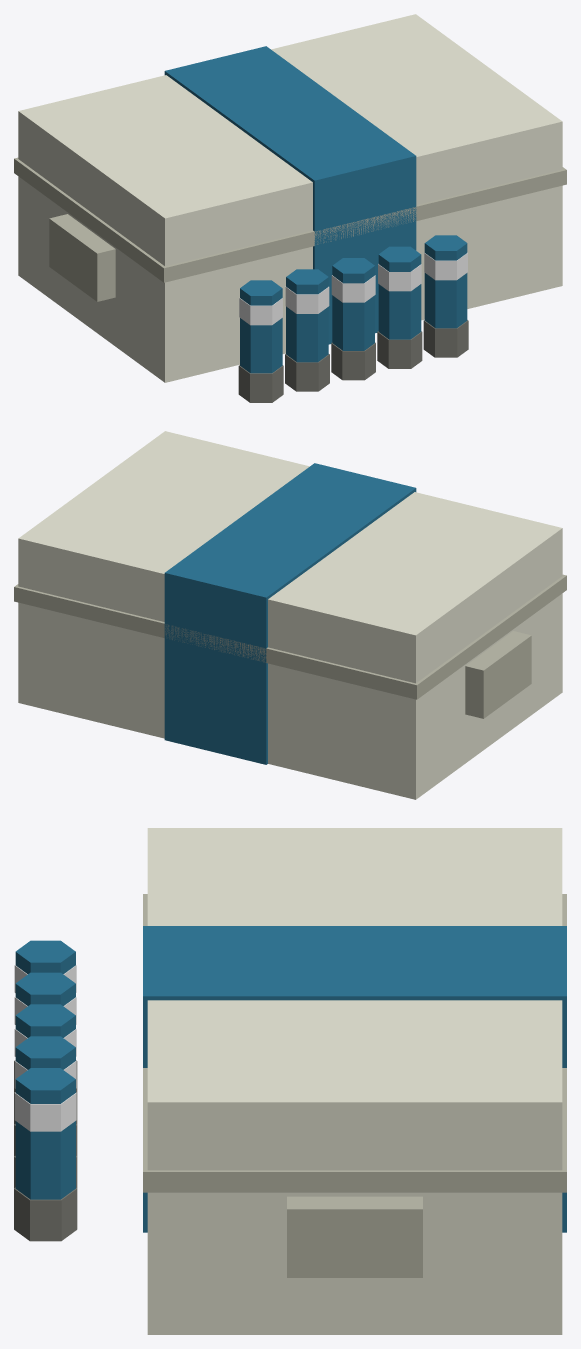
File: ce_ammo_chshotgun_ion_c.obj
3 views of the same model, one above another, from view 1: azimuth 30°, elevation 25°; view 2: azimuth 150°, elevation 25°; view 3: azimuth 270°, elevation 25° (orthographic). The views are drawn at different scales.
Visible parts, largest first — view 1: ce_ammo_chshotgun_ion_c_0, ce_ammo_chshotgun_ion_c_1, ce_ammo_chshotgun_ion_c_2, ce_ammo_chshotgun_ion_c_3, ce_ammo_chshotgun_ion_c_15, ce_ammo_chshotgun_ion_c_18, ce_ammo_chshotgun_ion_c_6, ce_ammo_chshotgun_ion_c_9, ce_ammo_chshotgun_ion_c_12, ce_ammo_chshotgun_ion_c_17, ce_ammo_chshotgun_ion_c_5, ce_ammo_chshotgun_ion_c_14 (+7 smaller); view 2: ce_ammo_chshotgun_ion_c_0, ce_ammo_chshotgun_ion_c_1, ce_ammo_chshotgun_ion_c_2, ce_ammo_chshotgun_ion_c_3; view 3: ce_ammo_chshotgun_ion_c_0, ce_ammo_chshotgun_ion_c_1, ce_ammo_chshotgun_ion_c_4, ce_ammo_chshotgun_ion_c_2, ce_ammo_chshotgun_ion_c_18, ce_ammo_chshotgun_ion_c_17, ce_ammo_chshotgun_ion_c_19, ce_ammo_chshotgun_ion_c_6, ce_ammo_chshotgun_ion_c_9, ce_ammo_chshotgun_ion_c_12, ce_ammo_chshotgun_ion_c_15.
Boxes of the visible parts, <box> form: ce_ammo_chshotgun_ion_c_0: <box>18,14,562,382</box>; ce_ammo_chshotgun_ion_c_1: <box>164,46,416,344</box>; ce_ammo_chshotgun_ion_c_2: <box>14,157,566,282</box>; ce_ammo_chshotgun_ion_c_3: <box>49,214,115,301</box>; ce_ammo_chshotgun_ion_c_15: <box>378,246,421,339</box>; ce_ammo_chshotgun_ion_c_18: <box>424,235,467,328</box>; ce_ammo_chshotgun_ion_c_6: <box>240,280,282,373</box>; ce_ammo_chshotgun_ion_c_9: <box>286,269,328,362</box>; ce_ammo_chshotgun_ion_c_12: <box>332,258,374,350</box>; ce_ammo_chshotgun_ion_c_17: <box>423,320,468,357</box>; ce_ammo_chshotgun_ion_c_5: <box>238,365,283,402</box>; ce_ammo_chshotgun_ion_c_14: <box>377,331,422,368</box>; ce_ammo_chshotgun_ion_c_0: <box>18,431,562,799</box>; ce_ammo_chshotgun_ion_c_1: <box>164,463,416,764</box>; ce_ammo_chshotgun_ion_c_2: <box>14,574,566,699</box>; ce_ammo_chshotgun_ion_c_3: <box>465,631,531,718</box>; ce_ammo_chshotgun_ion_c_0: <box>147,828,562,1334</box>; ce_ammo_chshotgun_ion_c_1: <box>143,926,566,1232</box>; ce_ammo_chshotgun_ion_c_4: <box>287,1196,422,1277</box>; ce_ammo_chshotgun_ion_c_2: <box>143,894,566,1192</box>; ce_ammo_chshotgun_ion_c_18: <box>15,1068,75,1199</box>; ce_ammo_chshotgun_ion_c_17: <box>14,1187,77,1241</box>; ce_ammo_chshotgun_ion_c_19: <box>14,1092,76,1131</box>; ce_ammo_chshotgun_ion_c_6: <box>15,940,75,974</box>; ce_ammo_chshotgun_ion_c_9: <box>15,972,75,1005</box>; ce_ammo_chshotgun_ion_c_12: <box>15,1004,75,1037</box>; ce_ammo_chshotgun_ion_c_15: <box>15,1036,75,1069</box>.
Bounding box in the file's own units: 0.94 × 0.346 × 0.733.
